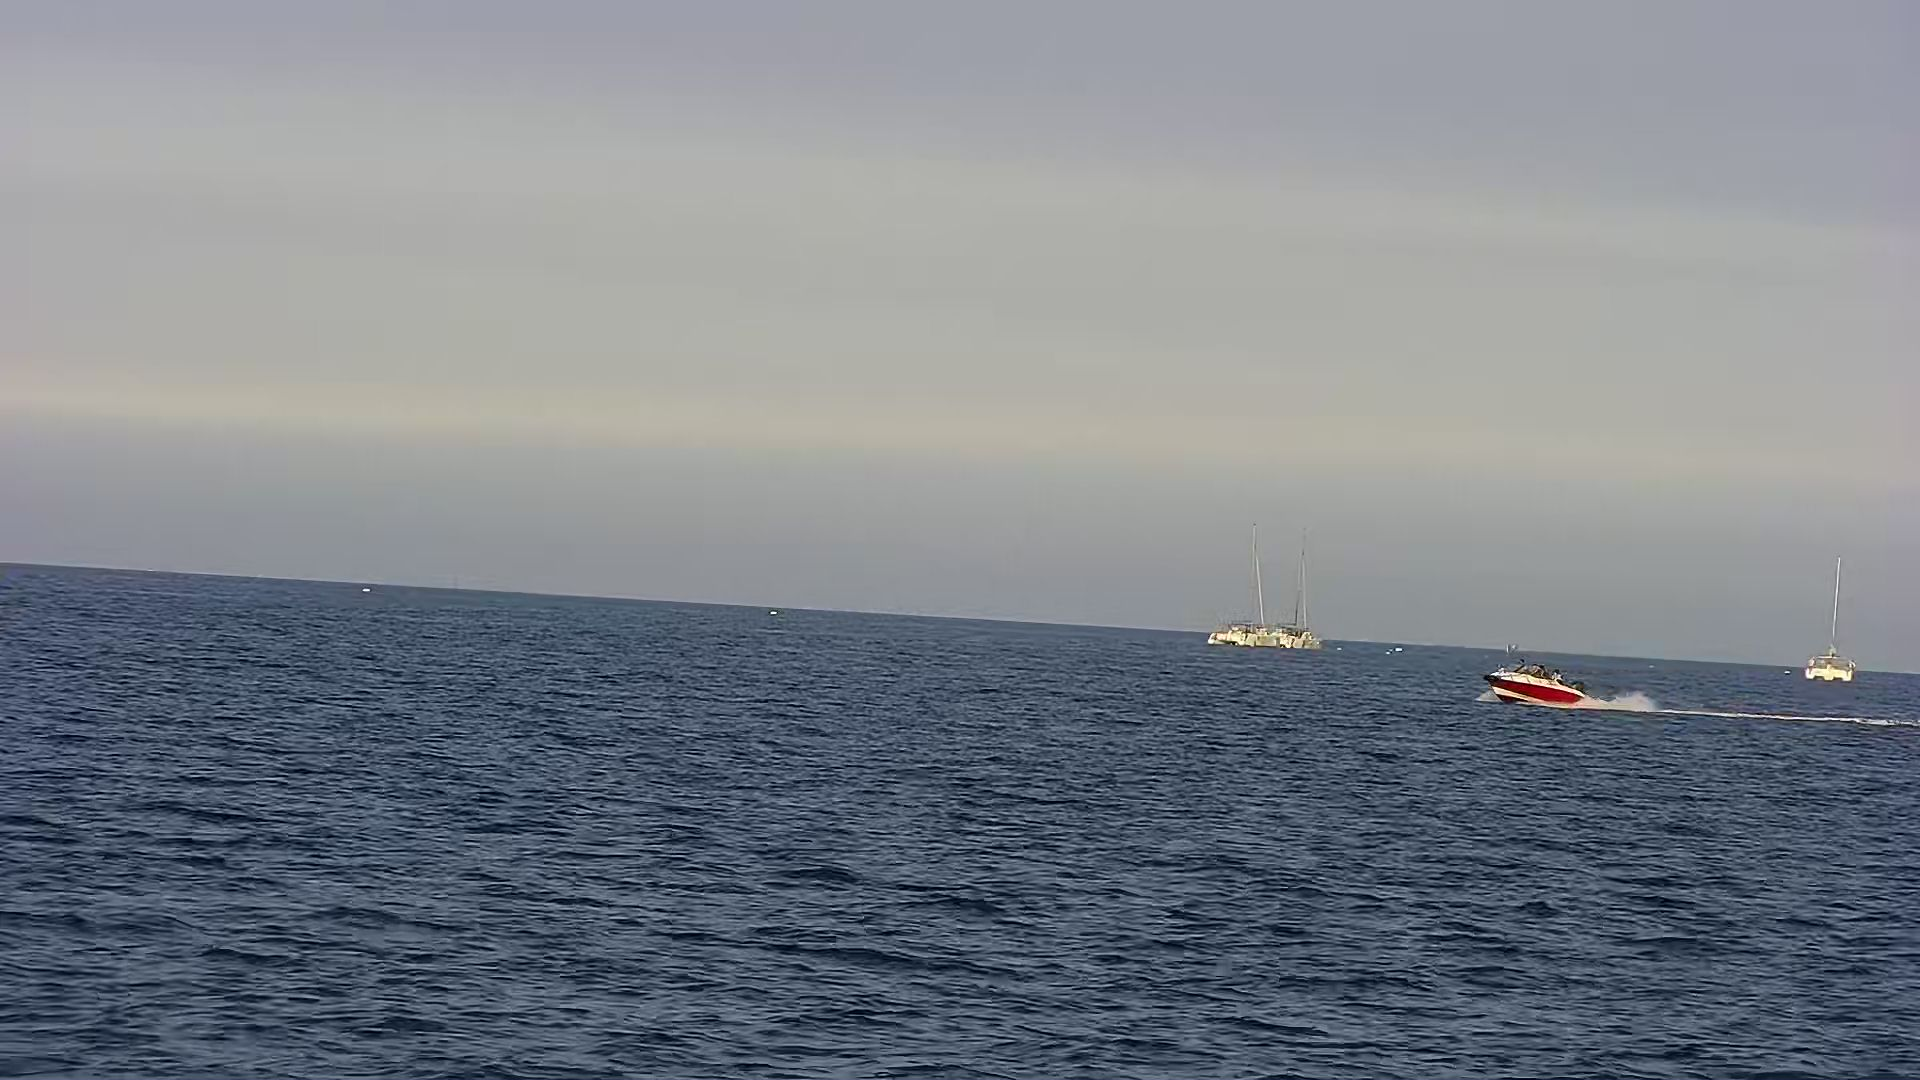boat: (1480, 642, 1611, 720)
platform: (1197, 516, 1338, 659), (1793, 549, 1859, 694)
